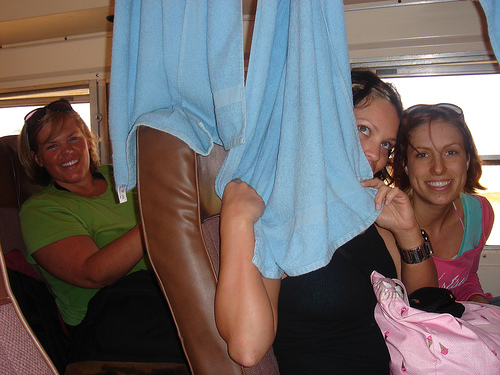without_mask: (323, 76, 402, 193), (399, 115, 476, 208), (26, 114, 92, 189)
